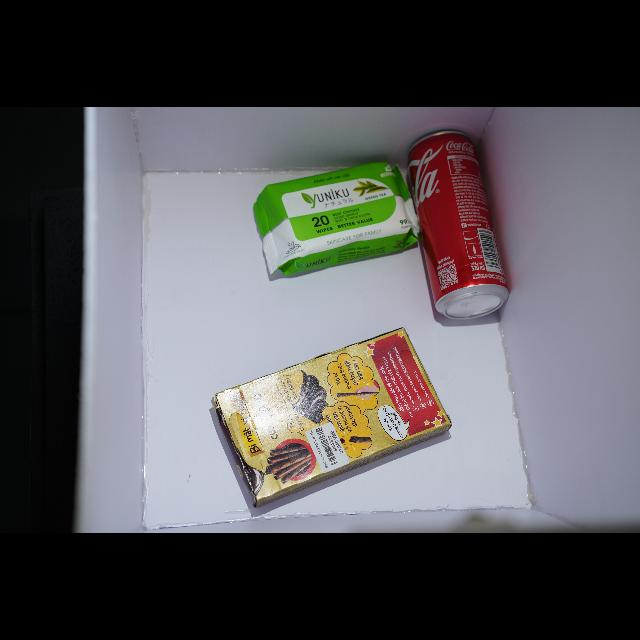banh_toppo_socola: (213, 328, 451, 506)
coca_cola: (408, 131, 509, 320)
khan_giay: (254, 163, 419, 276)
